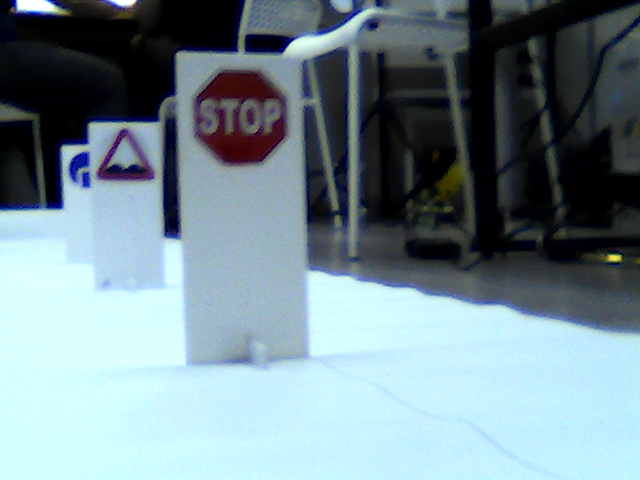Nerov: (98, 126, 155, 182)
Stop: (197, 65, 284, 164)
